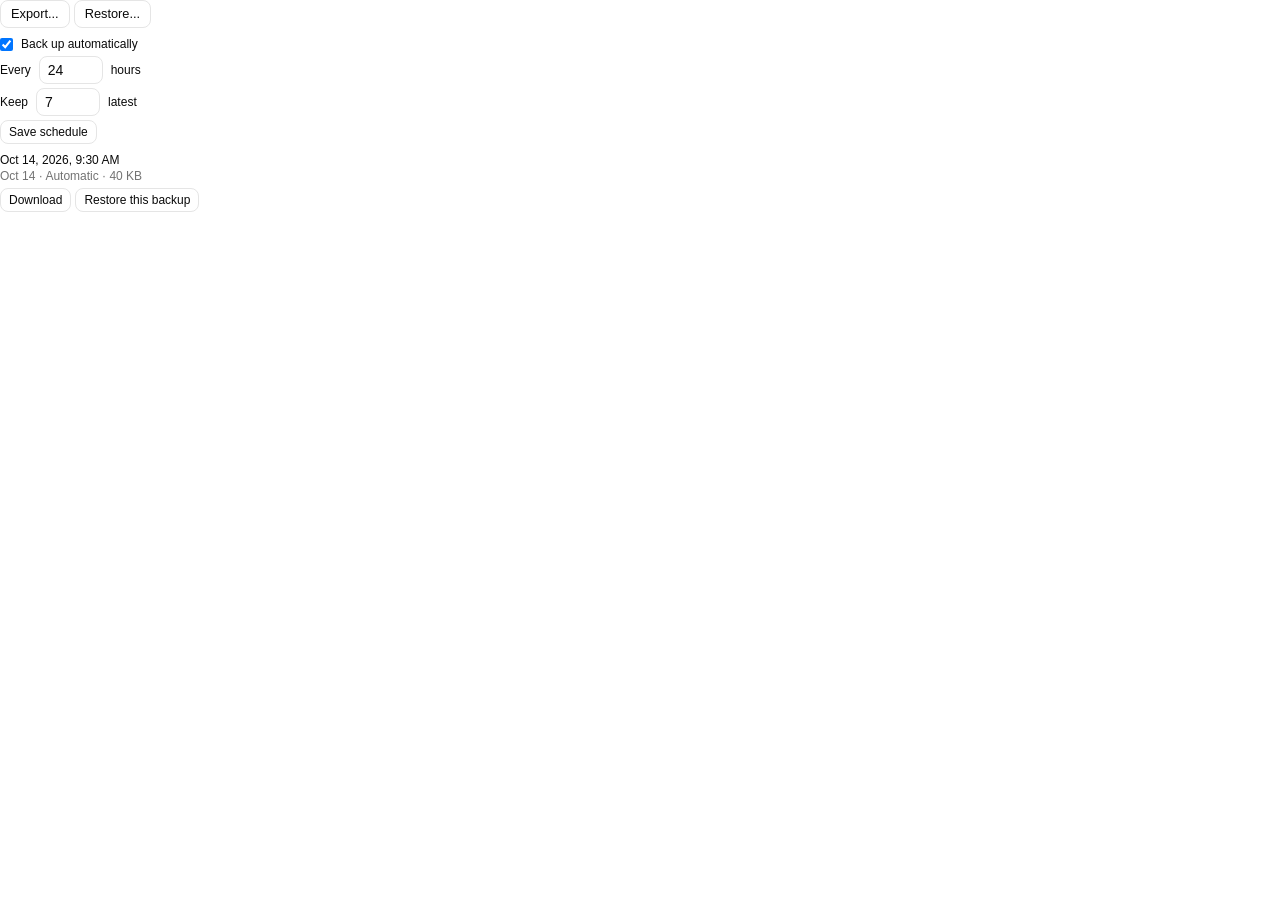
Test: BackupPanel › restores a listed backup by name and shows a rejected backup's error
The width and height of the screenshot is (1280, 900).
Click the button with aria-label "Restore this backup from" at (137,200), box [75,188,200,212]
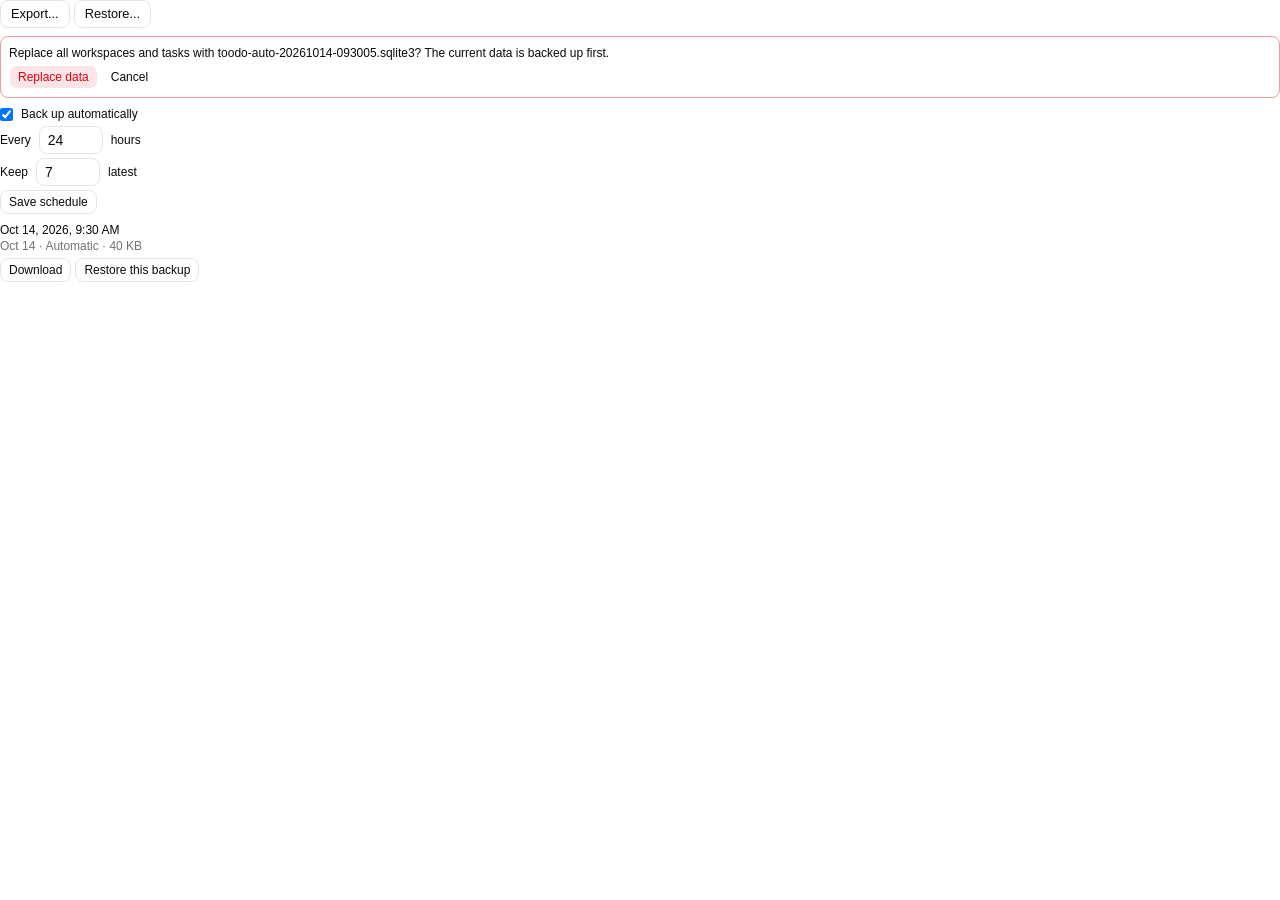
Click the button "Replace data" at (53,77), box [9,65,98,89]
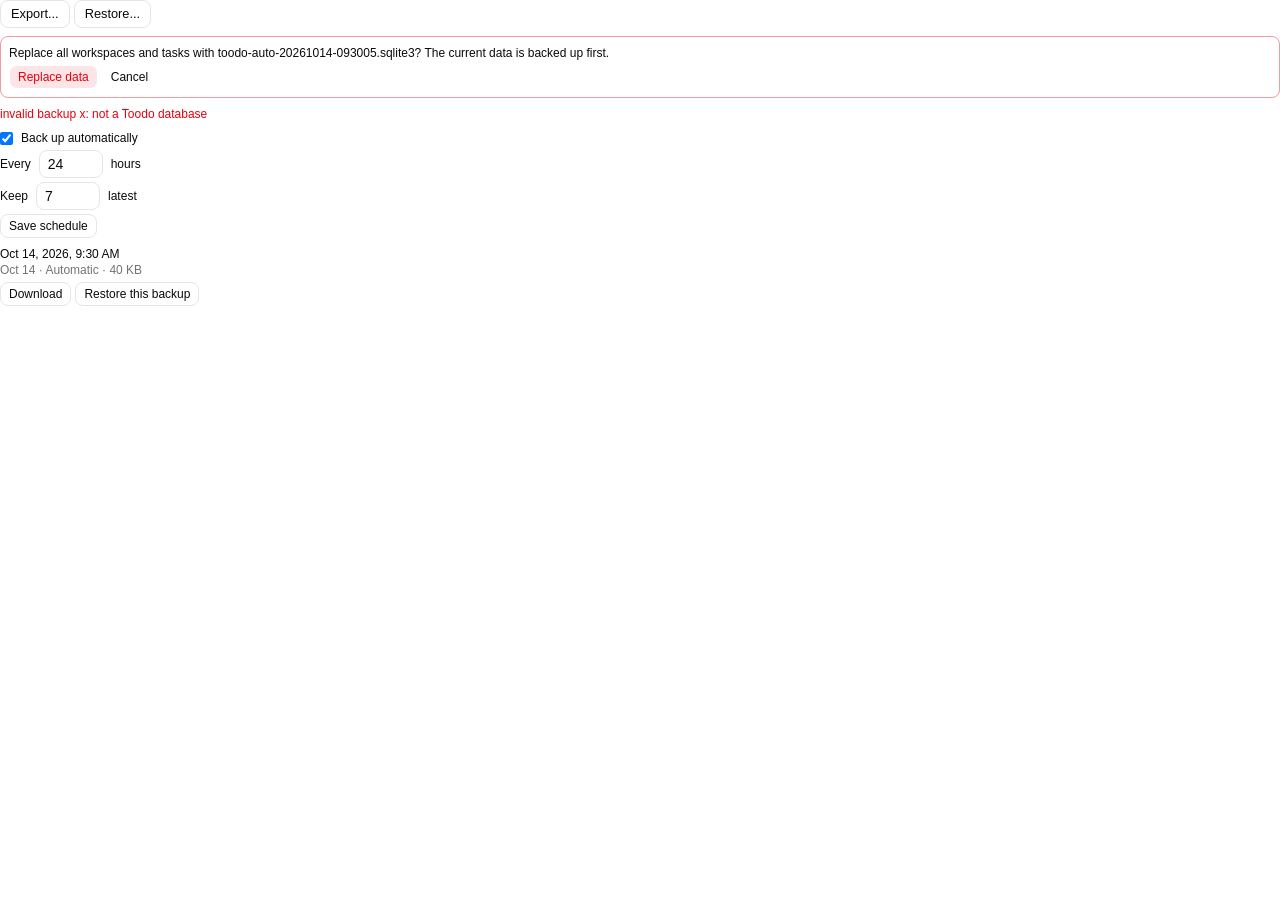
Expected: the message shows "not a Toodo database", [0,107,207,121]
Click the button "Cancel" at (129,77), box [102,65,157,89]
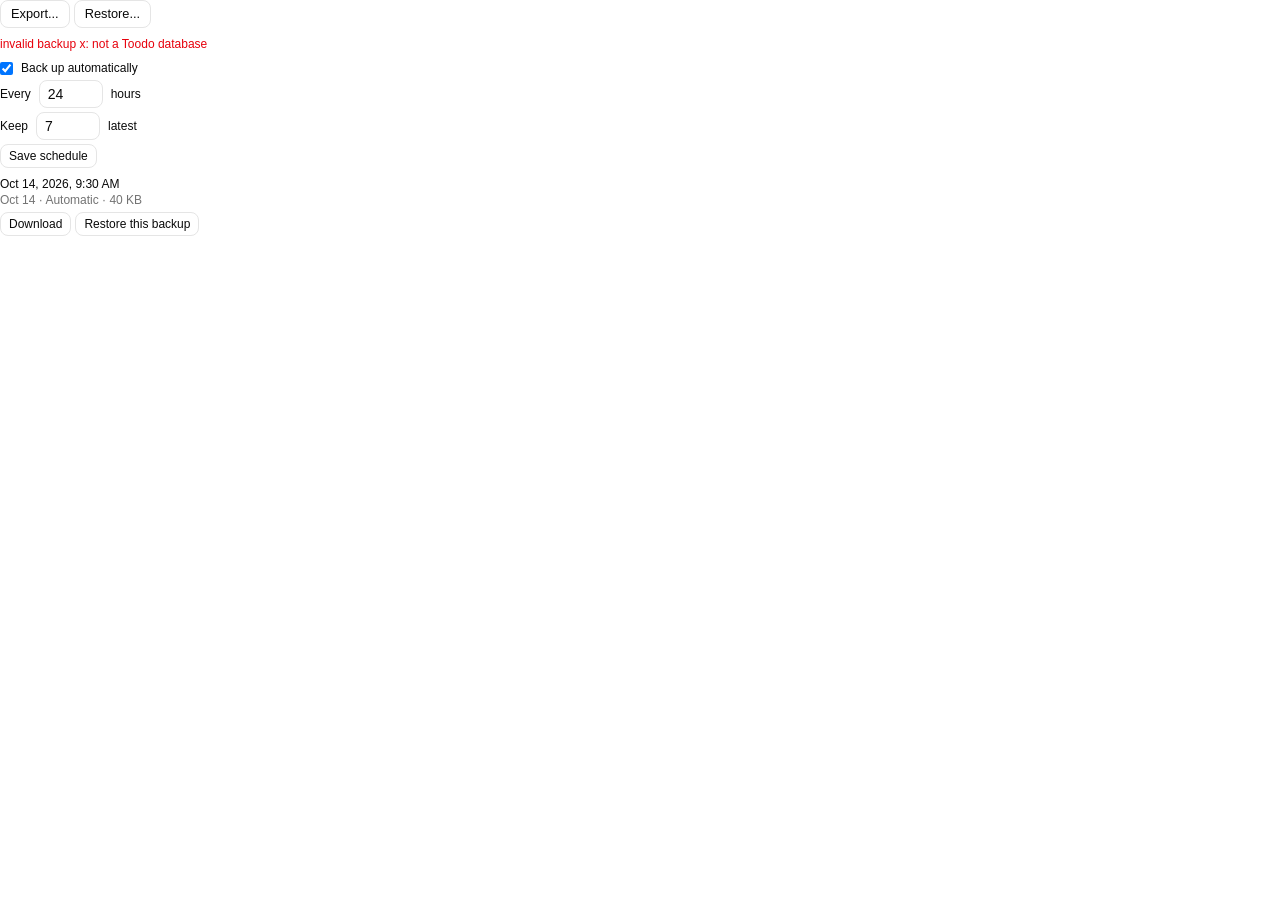
Expected: the dialog is gone
